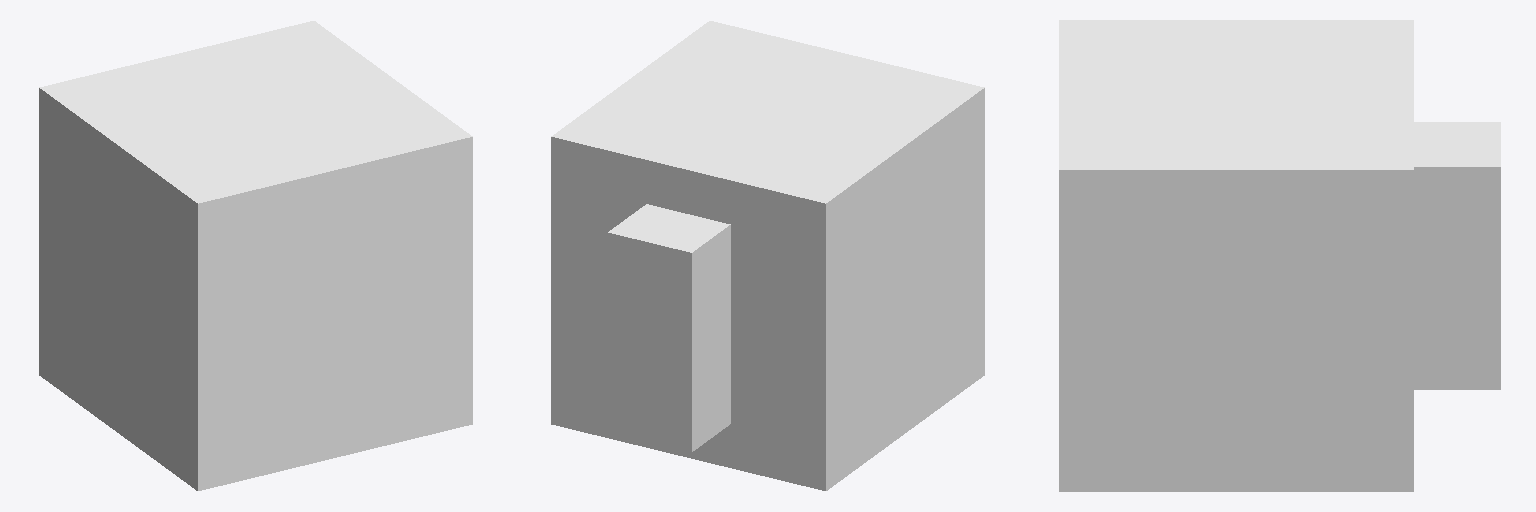
URDF robot description (Line_cube_cap_preprocessed_convex):
<?xml version="1.0" ?>
<robot name="Line_cube_cap_preprocessed_convex">
  <link name="baseLink">
    <contact>
    	<friction_anchor/>
    	   <lateral_friction value="1.0"/>
    </contact>
    <inertial>
      <origin rpy="0 0 0" xyz="0 0 0"/>
       <!-- mass controls penetration -->
       <mass value=".5"/>
       <inertia ixx="1e-4" ixy="0" ixz="0" iyy="1e-4" iyz="0" izz="1e-4"/>
    </inertial>
    <visual>
      <origin rpy="0 0 0" xyz="0 0 0"/>
      <geometry>
        <mesh filename="Line_cube_cap_preprocessed_convex.obj"/>
      </geometry>
       <material name="white">
        <color rgba="1 1 1 1"/>
      </material>
    </visual>
    <collision>
      <origin rpy="0 0 0" xyz="0 0 0"/>
      <geometry>
        <mesh filename="Line_cube_cap_preprocessed_convex.obj"/>
      </geometry>
    </collision>
  </link>
</robot>

--- Facts derived from the render (not from the file) ---
Views: 3 orthographic renders of the robot side by side, from view 1: azimuth 30°, elevation 25°; view 2: azimuth 150°, elevation 25°; view 3: azimuth 270°, elevation 25°.
Robot: Line_cube_cap_preprocessed_convex — 1 links, 0 joints (none); root link baseLink; default pose: all joints at 0.
Links seen in each view (by area): view 1: baseLink; view 2: baseLink; view 3: baseLink.
Boxes of the visible links, x1,y1,x2,y2 form: baseLink: (39, 21, 472, 490); baseLink: (551, 21, 984, 490); baseLink: (1059, 20, 1500, 491).
Size in the robot's own frame: 0.081 by 0.1008 by 0.081 metres.
1 mesh visuals loaded from 1 distinct referenced files (1 OBJ).